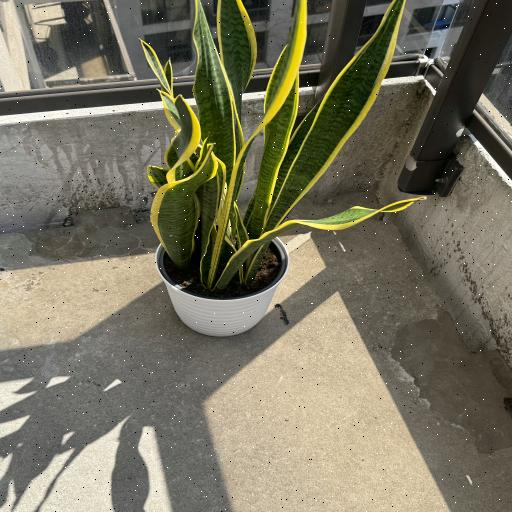Plant Pot: (155, 224, 289, 338)
